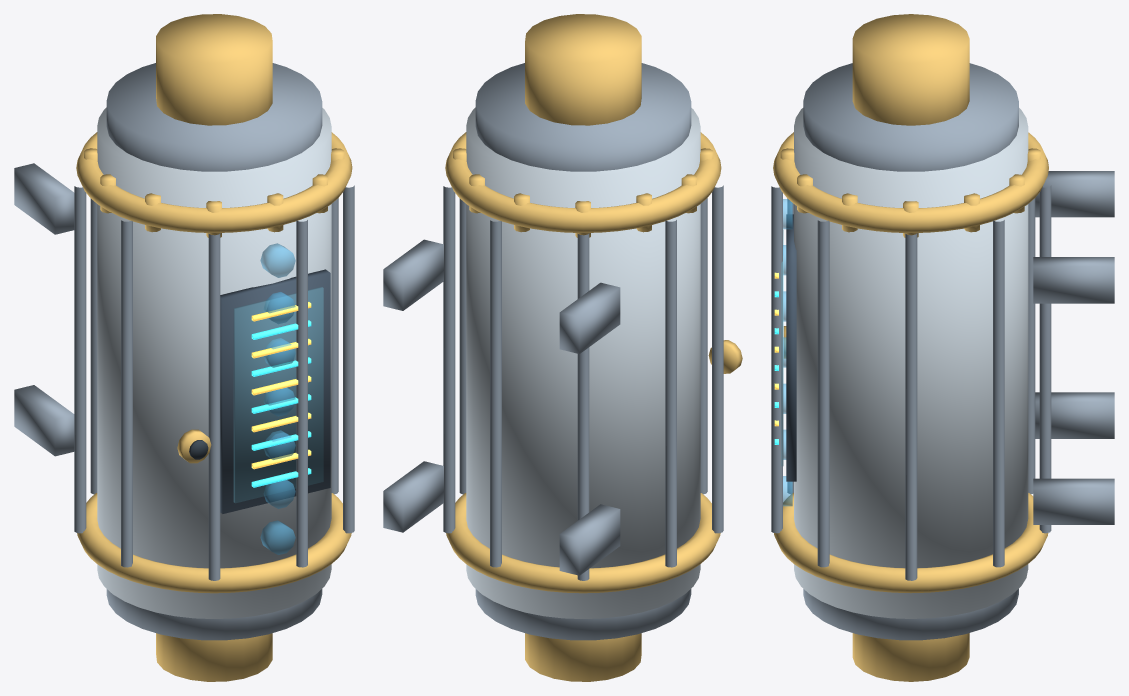
File: 46_L88_CondensateWaterSeparator.glb
The picture shows the model from 3 angles, left to right: view 1: azimuth 30°, elevation 25°; view 2: azimuth 150°, elevation 25°; view 3: azimuth 270°, elevation 25°; orthographic projection.
Visible parts, largest first — view 1: L87_CondensateWaterSeparator_Part_0000, L87_CondensateWaterSeparator_Part_0001, L87_CondensateWaterSeparator_Part_0002, L87_CondensateWaterSeparator_Part_0003, L87_CondensateWaterSeparator_Part_0004, L87_CondensateWaterSeparator_Part_0007, L87_CondensateWaterSeparator_Part_0006, L87_CondensateWaterSeparator_Part_0005, L87_CondensateWaterSeparator_Part_0008; view 2: L87_CondensateWaterSeparator_Part_0000, L87_CondensateWaterSeparator_Part_0001, L87_CondensateWaterSeparator_Part_0002, L87_CondensateWaterSeparator_Part_0008; view 3: L87_CondensateWaterSeparator_Part_0000, L87_CondensateWaterSeparator_Part_0001, L87_CondensateWaterSeparator_Part_0002, L87_CondensateWaterSeparator_Part_0003, L87_CondensateWaterSeparator_Part_0007, L87_CondensateWaterSeparator_Part_0004.
Boxes of the visible parts, x1,y1,x2,y2 form: L87_CondensateWaterSeparator_Part_0000: (97,107,331,618); L87_CondensateWaterSeparator_Part_0001: (14,63,354,640); L87_CondensateWaterSeparator_Part_0002: (76,14,352,681); L87_CondensateWaterSeparator_Part_0003: (220,269,330,513); L87_CondensateWaterSeparator_Part_0004: (234,287,323,502); L87_CondensateWaterSeparator_Part_0007: (260,243,295,554); L87_CondensateWaterSeparator_Part_0006: (251,302,311,469); L87_CondensateWaterSeparator_Part_0005: (251,320,311,487); L87_CondensateWaterSeparator_Part_0008: (177,429,211,463); L87_CondensateWaterSeparator_Part_0000: (466,107,700,618); L87_CondensateWaterSeparator_Part_0001: (383,63,723,640); L87_CondensateWaterSeparator_Part_0002: (445,14,721,681); L87_CondensateWaterSeparator_Part_0008: (708,340,742,373); L87_CondensateWaterSeparator_Part_0000: (794,108,1028,618); L87_CondensateWaterSeparator_Part_0001: (771,63,1114,640); L87_CondensateWaterSeparator_Part_0002: (773,14,1048,681); L87_CondensateWaterSeparator_Part_0003: (786,214,796,481); L87_CondensateWaterSeparator_Part_0007: (783,199,792,506); L87_CondensateWaterSeparator_Part_0004: (781,230,783,465).
Bounding box in the file's own units: 1.1 × 2.68 × 1.35.
